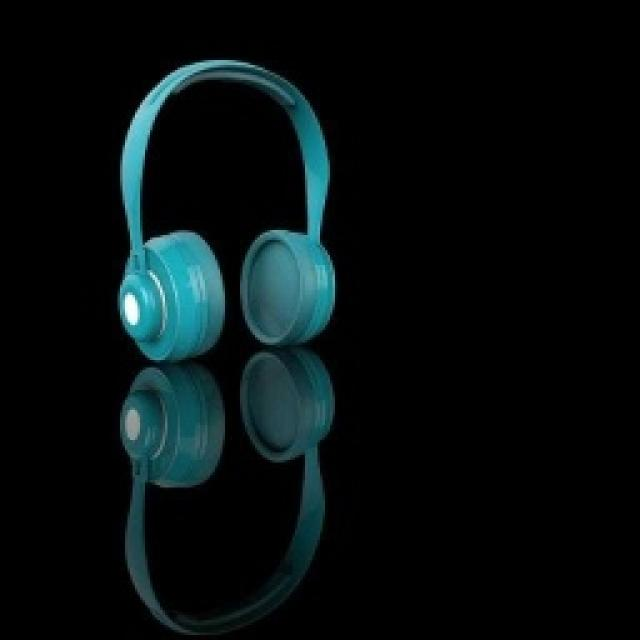headphones: (115, 55, 335, 363)
